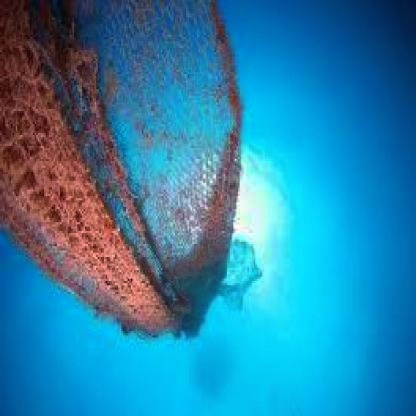net: (2, 2, 241, 338)
